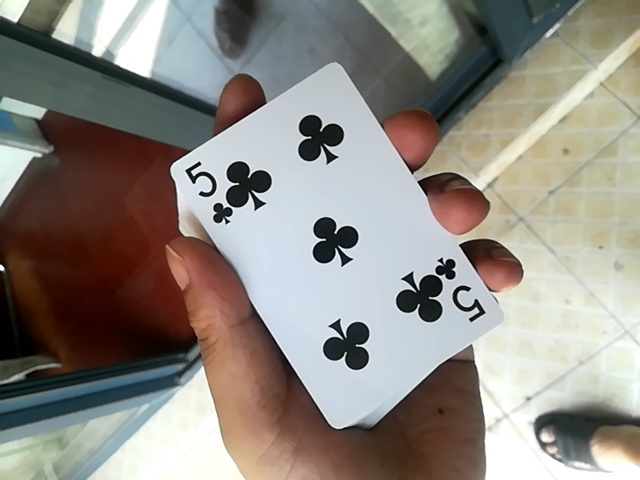mh 5: (154, 30, 464, 443)
